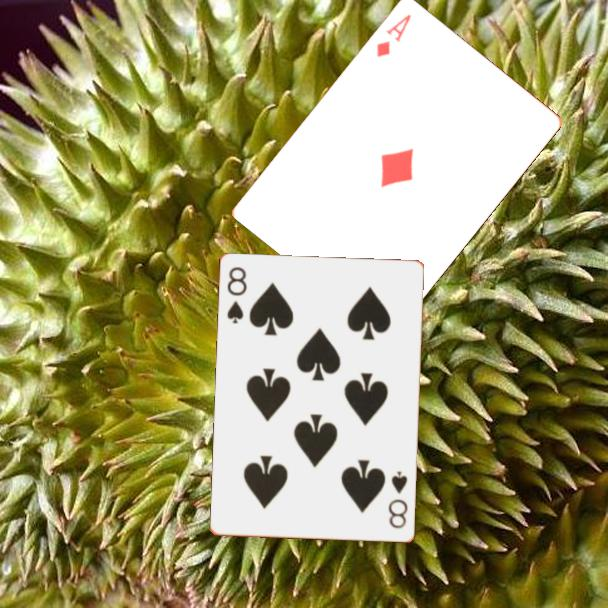d01: (373, 10, 414, 60)
s08: (385, 468, 411, 532), (224, 264, 250, 327)
